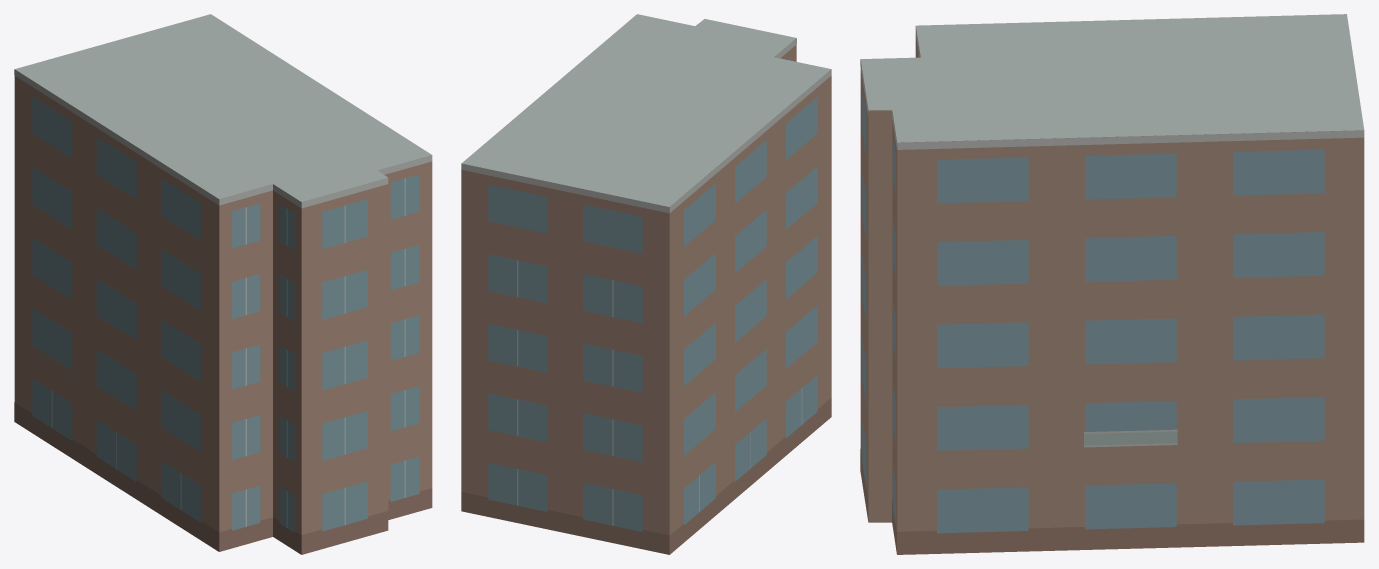
File: survey-upis-32755226.glb
3 views of the same model, side by side, from view 1: azimuth 30°, elevation 25°; view 2: azimuth 150°, elevation 25°; view 3: azimuth 270°, elevation 25° (orthographic). The views are drawn at different scales.
Visible parts, largest first — view 1: survey-upis-32755226.tmp; view 2: survey-upis-32755226.tmp; view 3: survey-upis-32755226.tmp.
Boxes of the visible parts, bbox=[...] form: survey-upis-32755226.tmp: bbox=[14, 14, 432, 554]; survey-upis-32755226.tmp: bbox=[461, 14, 831, 554]; survey-upis-32755226.tmp: bbox=[860, 14, 1364, 554].
Size of the model in its own units: 9.1 by 13.6 by 15.07.
